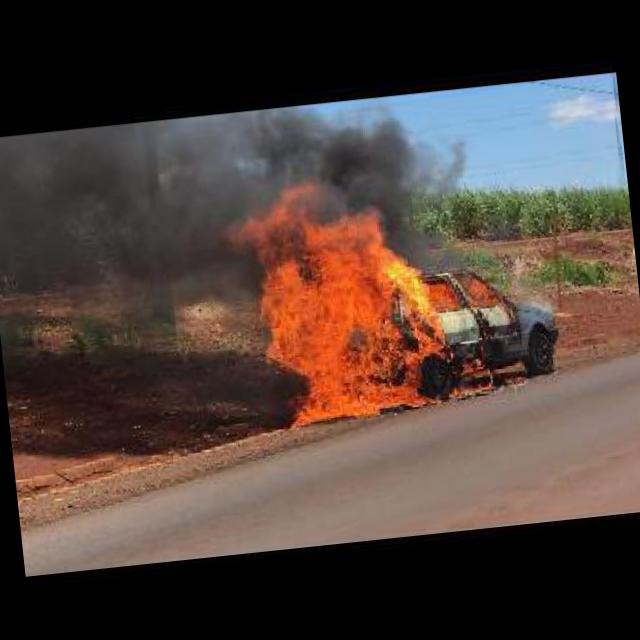fire: (225, 158, 530, 430)
smoke: (0, 90, 442, 326)
